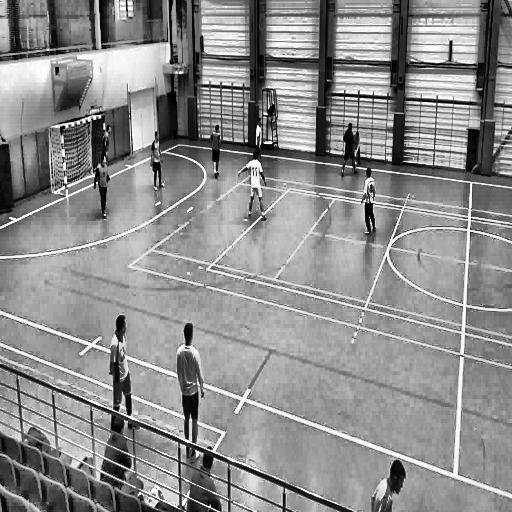ball: (352, 158, 358, 168)
player: (238, 152, 267, 222), (340, 122, 358, 180), (208, 123, 222, 182), (253, 115, 264, 162), (353, 130, 362, 163)
